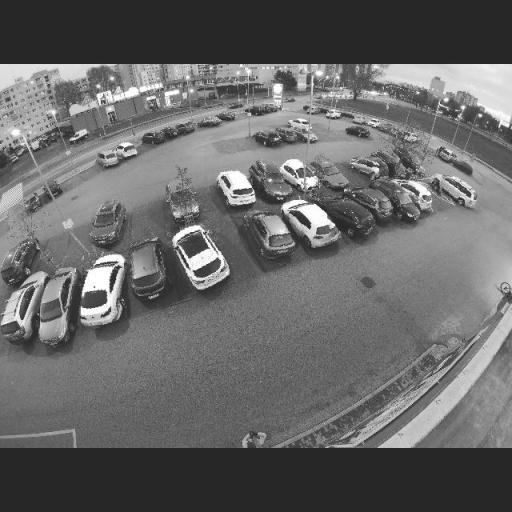busy: (74, 247, 128, 331), (173, 220, 233, 294), (34, 265, 82, 348), (125, 236, 174, 302), (242, 210, 302, 262), (284, 201, 344, 250), (89, 199, 132, 249), (250, 161, 296, 204), (326, 199, 376, 238), (374, 182, 424, 220), (216, 170, 261, 209), (280, 159, 324, 196), (432, 175, 482, 207), (352, 188, 397, 220), (398, 181, 442, 211), (309, 160, 350, 190), (391, 149, 431, 176), (350, 155, 389, 179), (376, 151, 410, 177), (253, 130, 283, 148), (96, 151, 122, 171), (436, 146, 463, 164), (116, 142, 142, 160), (143, 131, 169, 147), (347, 126, 373, 141), (276, 129, 300, 145), (175, 119, 198, 135), (196, 116, 222, 129), (163, 126, 181, 138), (217, 112, 237, 122)
free: (134, 212, 165, 234), (68, 230, 89, 262), (44, 240, 68, 267), (342, 167, 360, 183), (220, 140, 236, 158), (64, 174, 80, 191), (85, 166, 104, 178), (314, 128, 329, 141), (239, 140, 257, 150), (330, 132, 344, 142)
